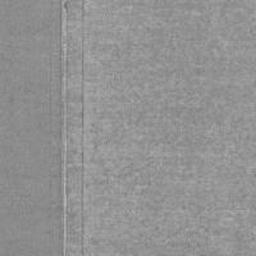Welding line: (58, 0, 69, 256)
